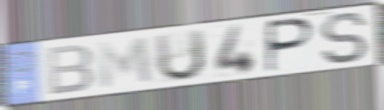4: (213, 22, 258, 78)
B: (44, 43, 95, 98)
M: (95, 35, 156, 91)
P: (264, 16, 317, 75)
S: (318, 11, 370, 66)
U: (153, 27, 208, 84)
